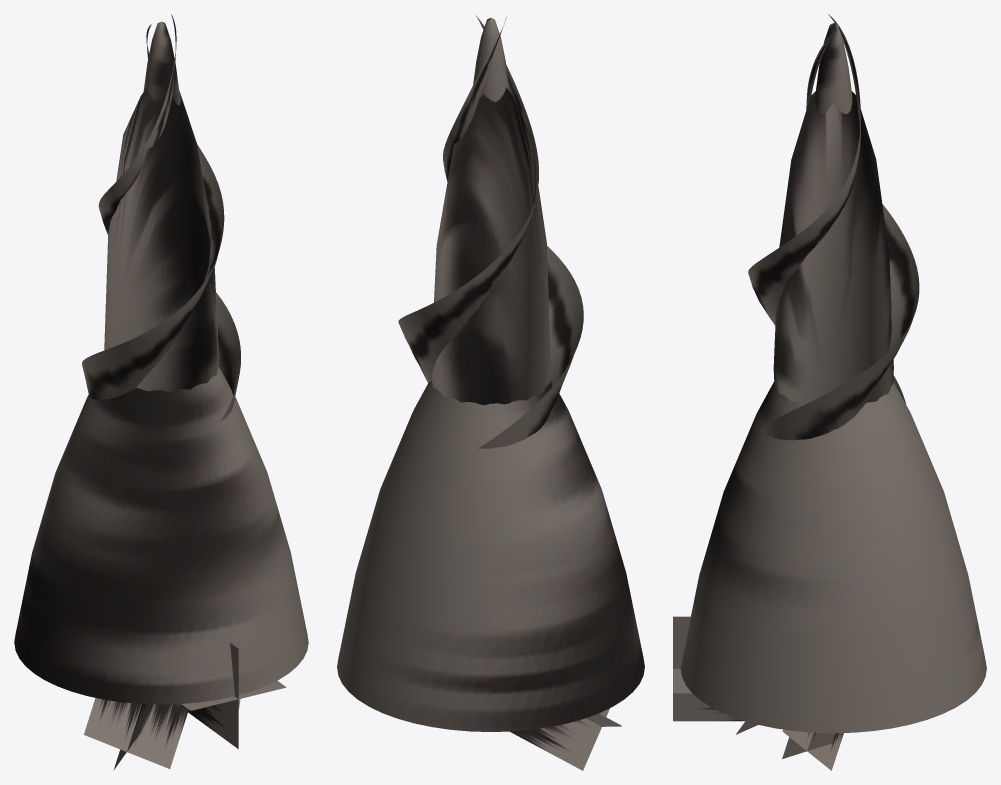
3 renders of one model, left to right at view 1: azimuth 30°, elevation 25°; view 2: azimuth 150°, elevation 25°; view 3: azimuth 270°, elevation 25°, orthographic. The views are drawn at different scales.
Parts seen in each view (by area): view 1: 1efb_gtg03, 1efb_grg01_shadow, 1efb_gtg01b, 1efb_gtg02, 1efb_gtg01a; view 2: 1efb_gtg03, 1efb_grg01_shadow, 1efb_gtg01b, 1efb_gtg02, 1efb_gtg01a; view 3: 1efb_gtg03, 1efb_grg01_shadow, 1efb_gtg01b, 1efb_gtg02, 1efb_gtg01a.
Boxes of the visible parts, x1,y1,x2,y2 form: 1efb_gtg03: (14,366,308,704); 1efb_grg01_shadow: (104,88,218,391); 1efb_gtg01b: (82,14,240,421); 1efb_gtg02: (84,643,286,770); 1efb_gtg01a: (143,21,180,105); 1efb_gtg03: (337,379,644,731); 1efb_grg01_shadow: (432,88,550,405); 1efb_gtg01b: (398,15,583,448); 1efb_gtg02: (510,708,622,770); 1efb_gtg01a: (473,18,509,101); 1efb_gtg03: (680,381,986,733); 1efb_grg01_shadow: (773,91,893,404); 1efb_gtg01b: (748,14,919,440); 1efb_gtg02: (673,616,843,770); 1efb_gtg01a: (815,23,852,113).
Size of the model in its own units: 265 by 717 by 272.
